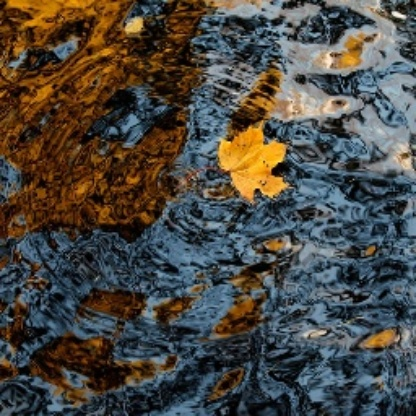leaf: (215, 126, 293, 202)
